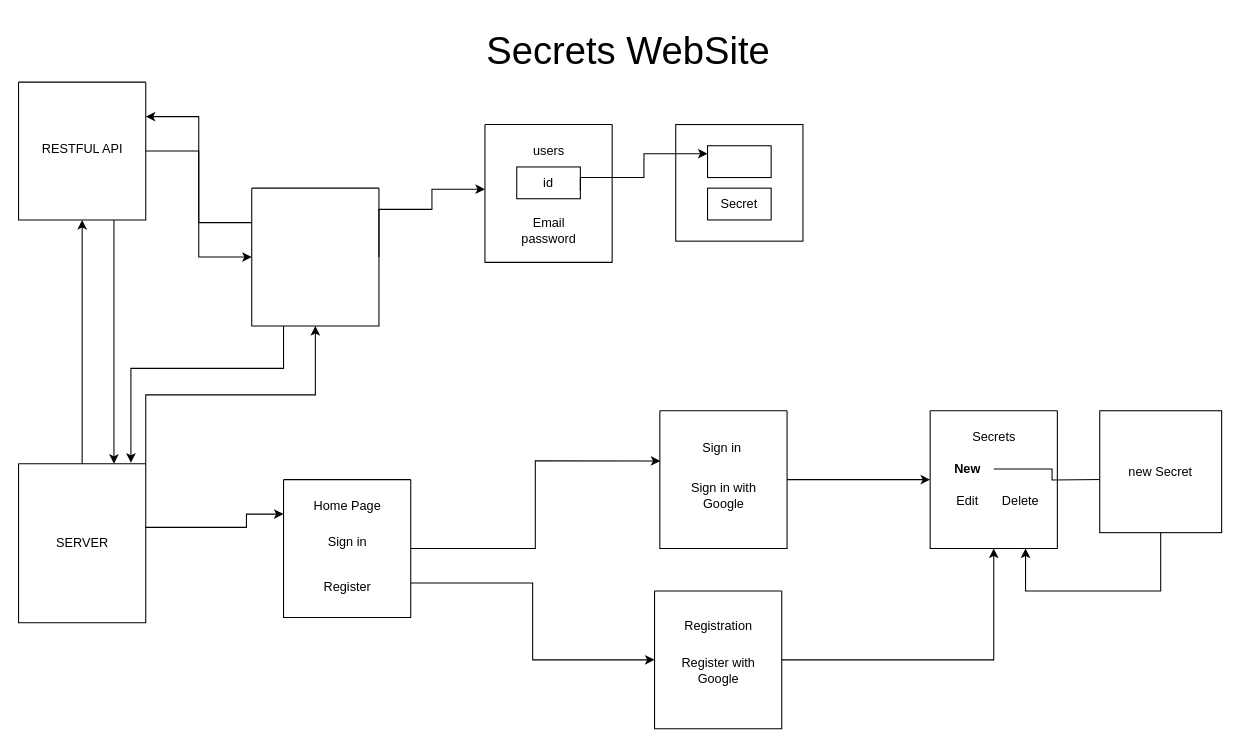
The diagram is 1240 pixels wide and 747 high, and some of its shapes have lost their labels. Here are the shapes that lost their labels. From the top down, the centre of each, then its label:
[738,161]: userID
[315,256]: Database
